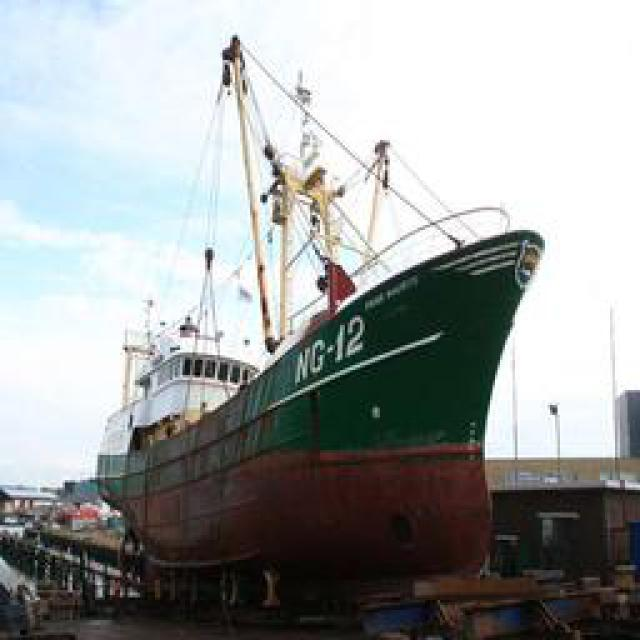Ship: (102, 175, 550, 588)
